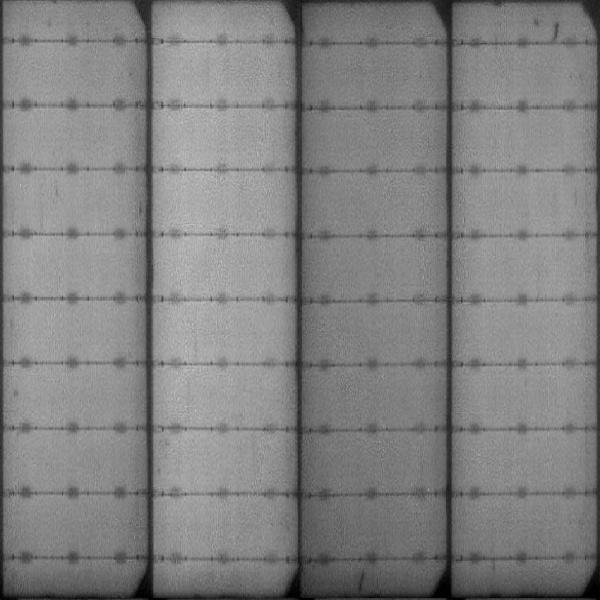scratch: (355, 566, 369, 596), (552, 20, 563, 41)
